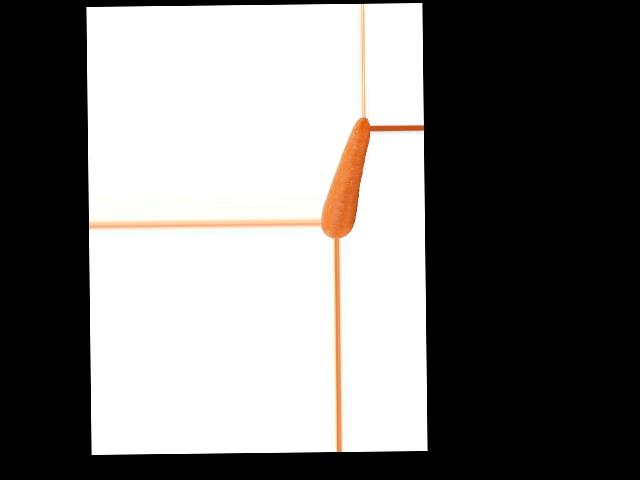carrot: (320, 118, 371, 239)
